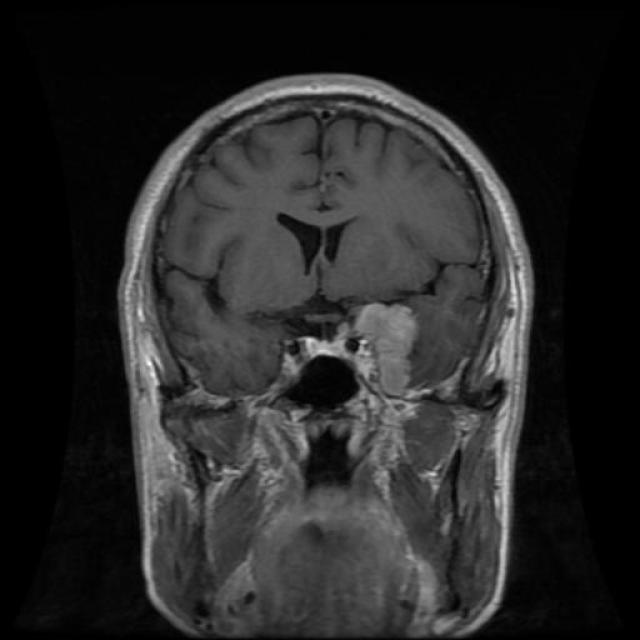Tumor: (348, 305, 414, 403)
